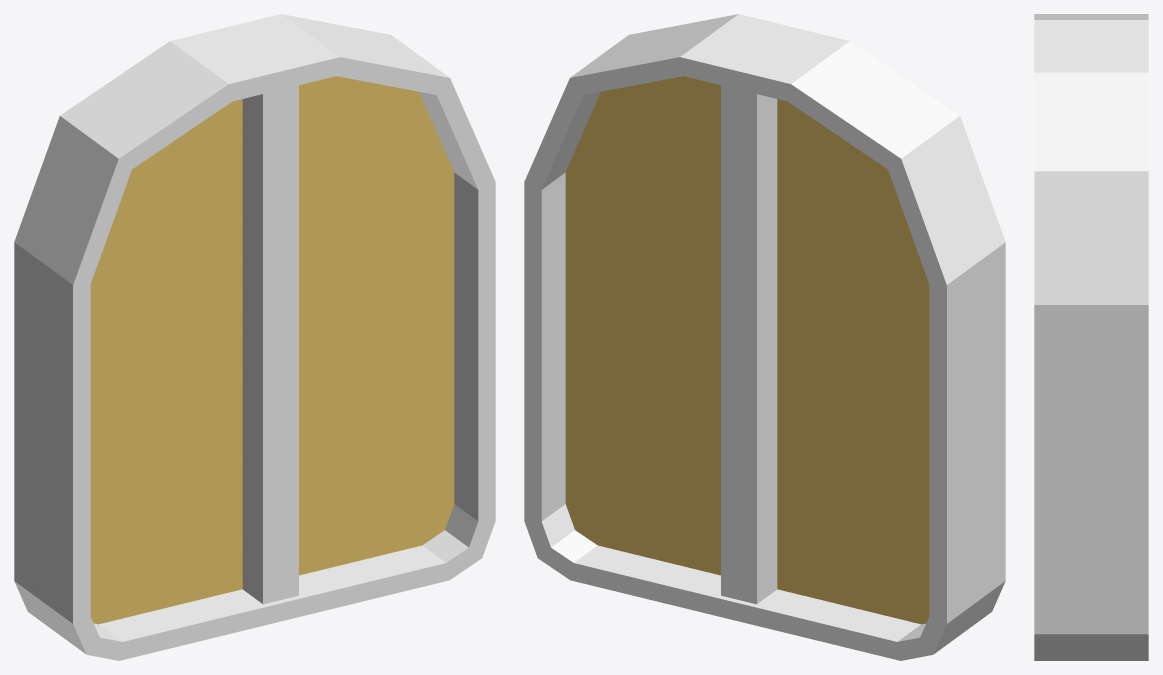
Rendered from Window_19.fbx.
3 renders of one model, left to right at view 1: azimuth 30°, elevation 25°; view 2: azimuth 150°, elevation 25°; view 3: azimuth 270°, elevation 25°, orthographic. The views are drawn at different scales.
Visible parts, largest first — view 1: Window_19; view 2: Window_19; view 3: Window_19.
Part boxes in pixels (bbox=[...]): Window_19: bbox=[14, 14, 495, 660]; Window_19: bbox=[524, 14, 1005, 660]; Window_19: bbox=[1034, 14, 1148, 660].
Size of the model in its own units: 0.8485 by 1.06 by 0.2048.
